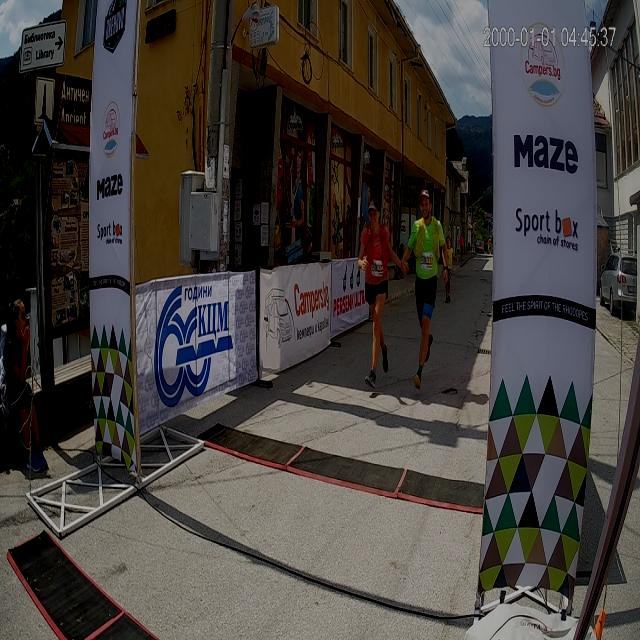runner: (342, 182, 398, 412), (400, 172, 456, 394)
